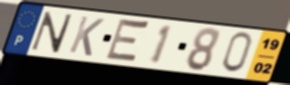0: (219, 31, 254, 75)
1: (149, 24, 174, 65)
8: (186, 26, 222, 73)
E: (102, 16, 152, 66)
K: (66, 14, 107, 58)
N: (28, 11, 75, 55)
